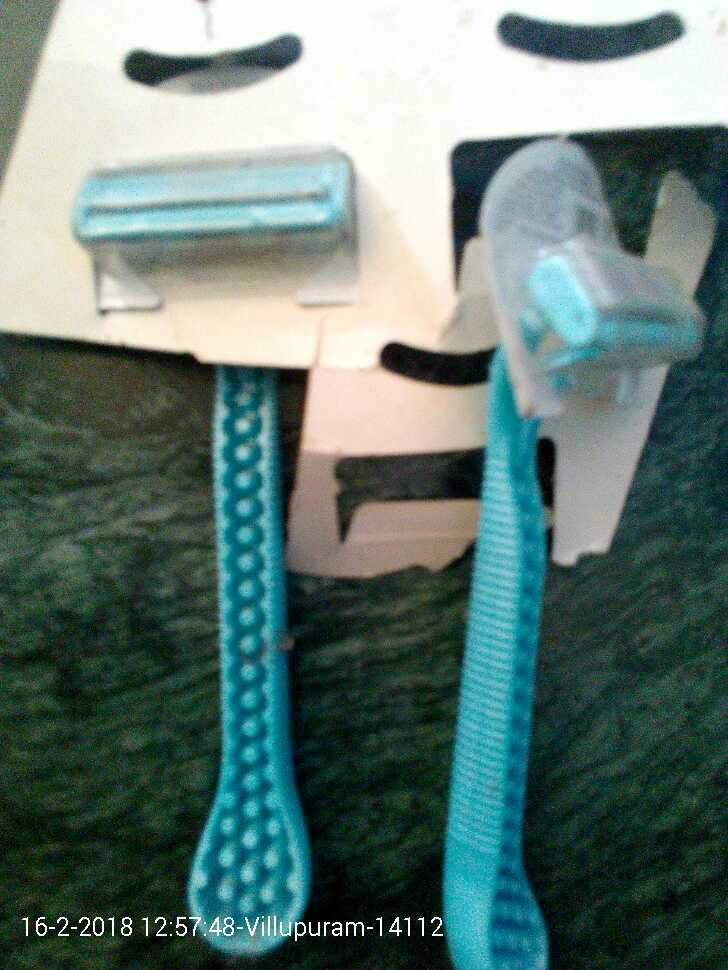reject: (138, 462, 267, 622)
